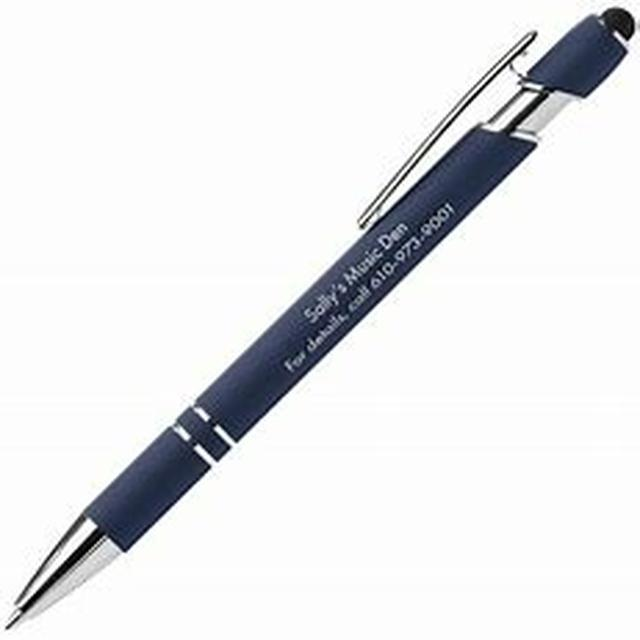pen: (8, 18, 630, 625)
